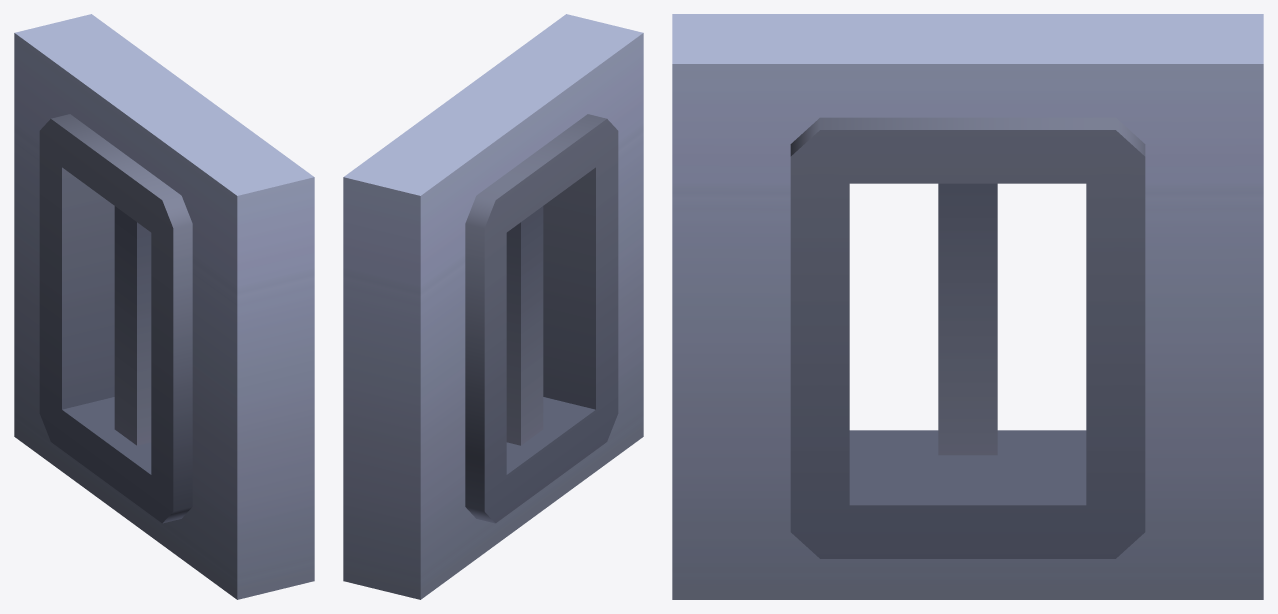
Rendered from kenney-prototype-wall-window-barred-medium.glb.
3 renders of one model, left to right at view 1: azimuth 30°, elevation 25°; view 2: azimuth 150°, elevation 25°; view 3: azimuth 270°, elevation 25°, orthographic. The views are drawn at different scales.
Visible parts, largest first — view 1: wall-window-barred-medium; view 2: wall-window-barred-medium; view 3: wall-window-barred-medium.
Part boxes in pixels (x1,y1,x2,y2): wall-window-barred-medium: [14, 14, 314, 599]; wall-window-barred-medium: [343, 14, 643, 599]; wall-window-barred-medium: [672, 14, 1263, 599].
Bounding box in the file's own units: 0.3 × 1 × 1.
Materials: 1 (1 with a texture image).
